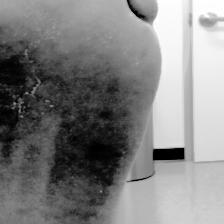Benign Marking or Mole: (18, 0, 85, 47)
